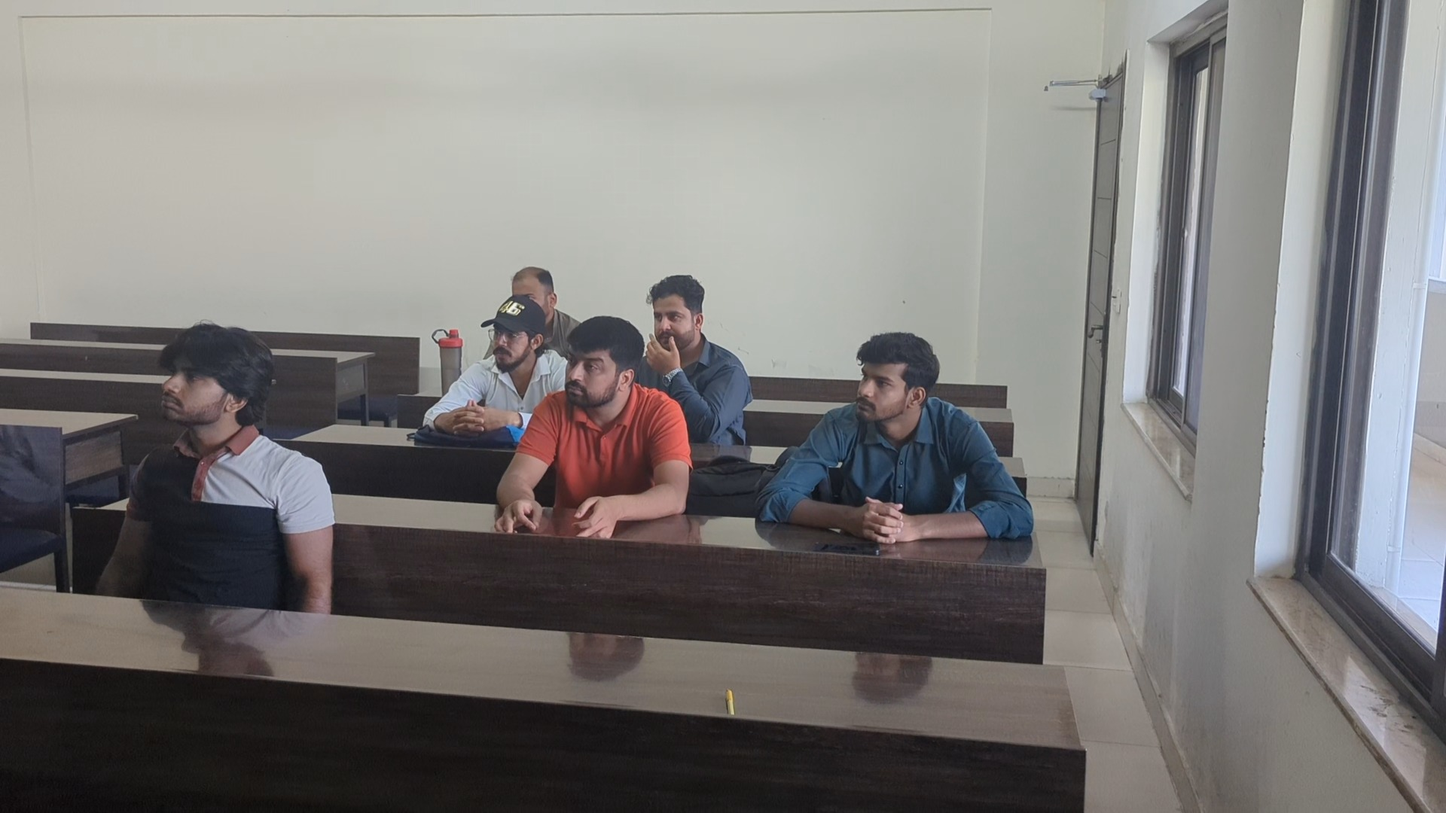look_forward: (141, 303, 325, 543), (821, 318, 964, 527), (549, 307, 641, 478), (628, 256, 742, 391), (463, 303, 550, 413), (509, 229, 567, 312)
